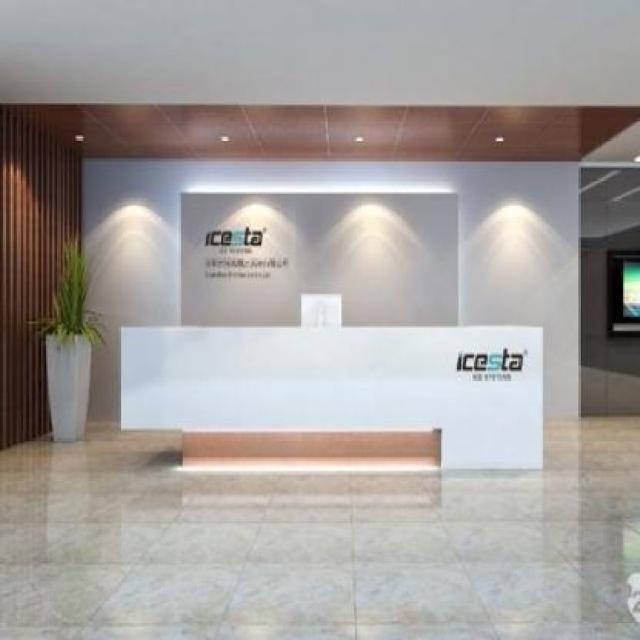frontdesk: (115, 317, 551, 481)
